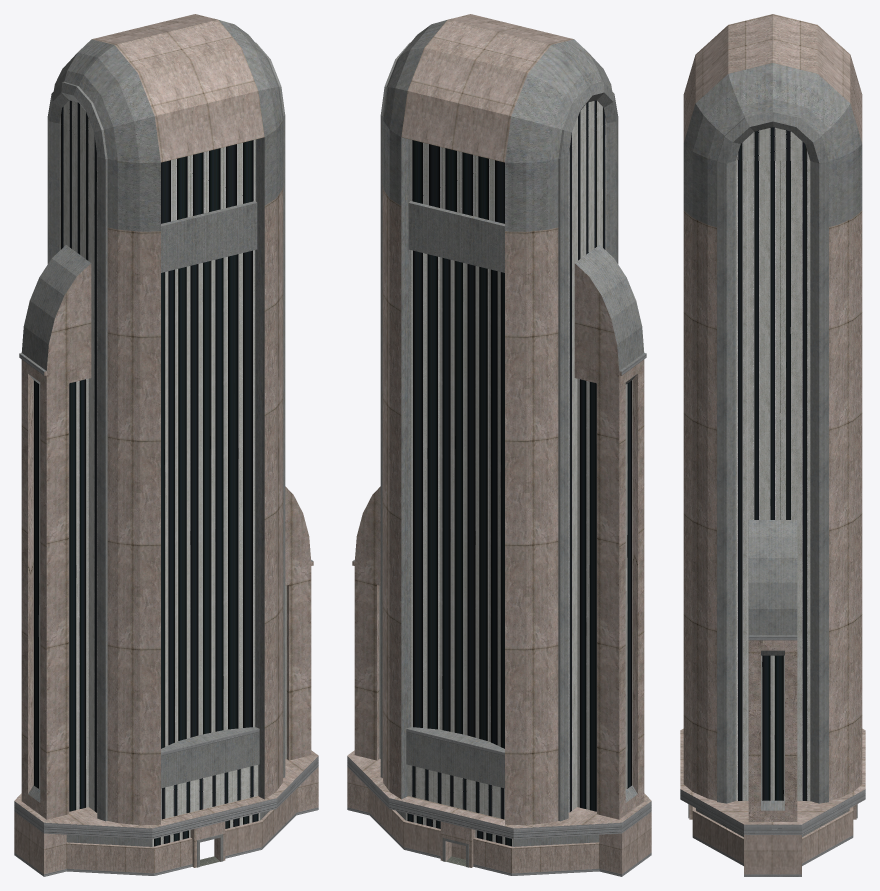
The model's file is thm_corl_skyskraper_s04_r0_mesh_l0.fbx.
The picture shows the model from 3 angles, left to right: view 1: azimuth 30°, elevation 25°; view 2: azimuth 150°, elevation 25°; view 3: azimuth 270°, elevation 25°; orthographic projection. The views are drawn at different scales.
Visible parts, largest first — view 1: mesh_node; view 2: mesh_node; view 3: mesh_node.
Boxes of the visible parts, x1=… form: mesh_node: x1=14, y1=14, x2=318, y2=876; mesh_node: x1=347, y1=14, x2=651, y2=876; mesh_node: x1=680, y1=14, x2=865, y2=876.
Bounding box in the file's own units: 53 × 148 × 32.
